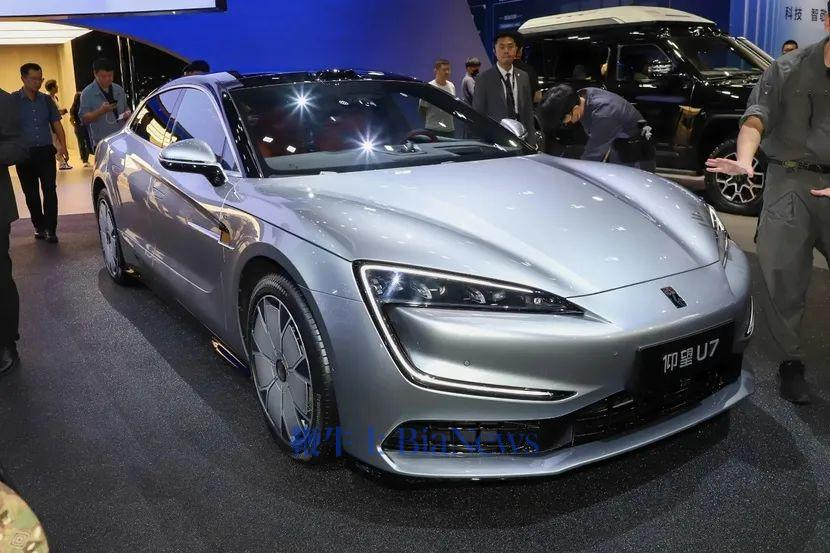other: (90, 73, 766, 494)
